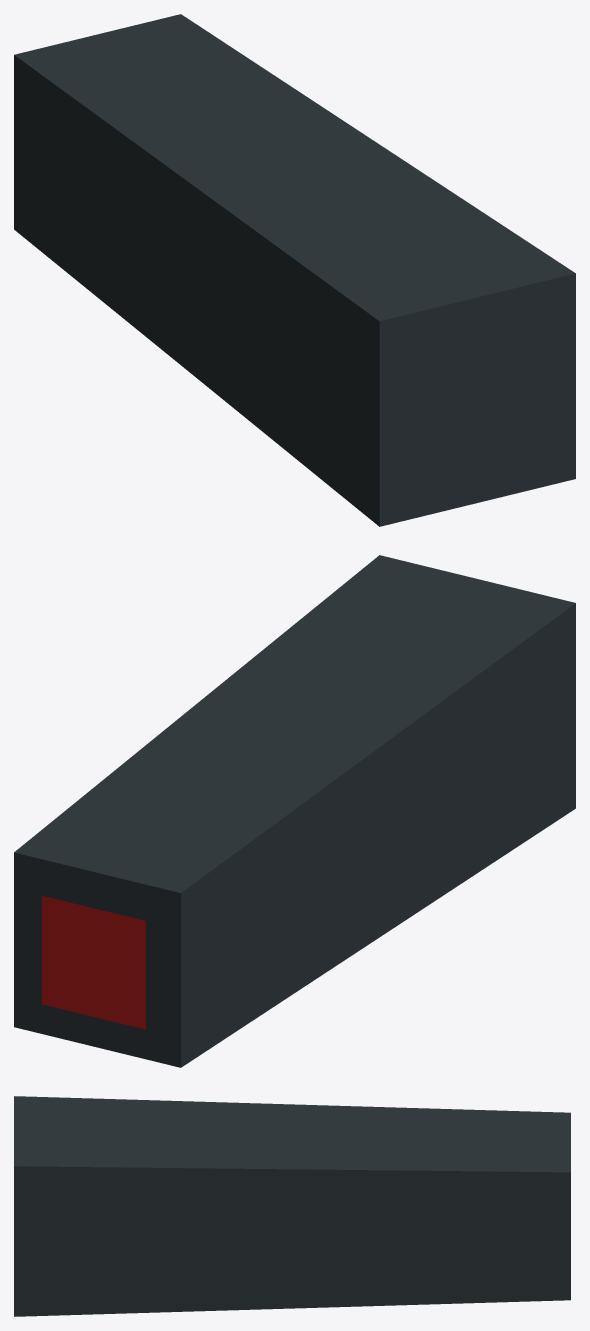
3 renders of one model, top to bottom at view 1: azimuth 30°, elevation 25°; view 2: azimuth 150°, elevation 25°; view 3: azimuth 270°, elevation 25°, orthographic. The views are drawn at different scales.
Parts seen in each view (by area): view 1: mount; view 2: mount; view 3: mount.
Part boxes in pixels (x1,y1,x2,y2): mount: (14, 14, 575, 526); mount: (14, 555, 575, 1067); mount: (14, 1096, 570, 1316).
Size of the model in its own units: 0.9899 by 0.9899 by 3.35.
